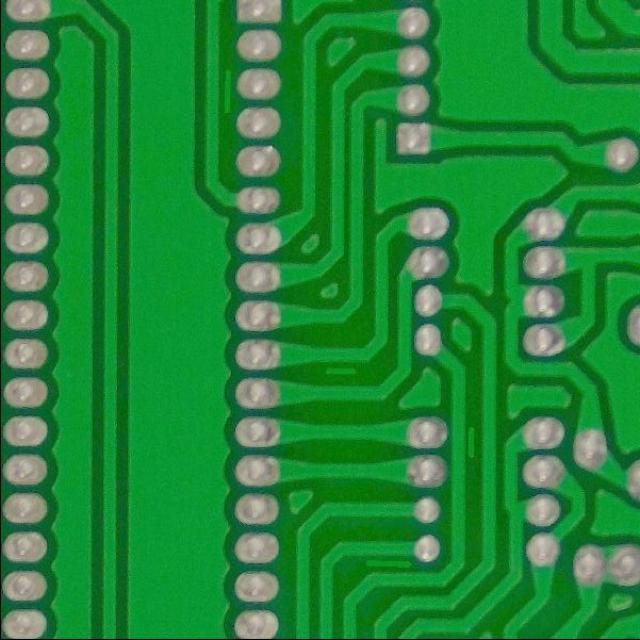spurious_copper: (359, 550, 422, 582), (316, 356, 366, 386), (215, 65, 242, 118), (461, 423, 484, 467)
